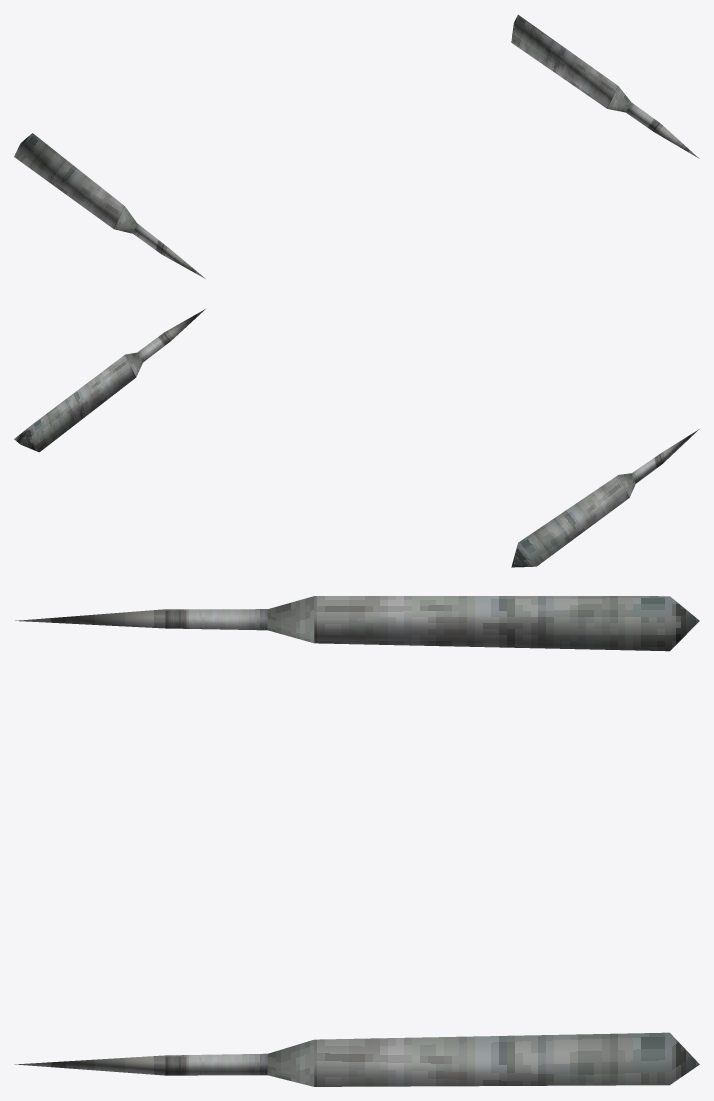
Rendered from awing_weapon_s05_l3.fbx.
The picture shows the model from 3 angles, top to bottom: view 1: azimuth 30°, elevation 25°; view 2: azimuth 150°, elevation 25°; view 3: azimuth 270°, elevation 25°; orthographic projection. The views are drawn at different scales.
Visible parts, largest first — view 1: mesh_node; view 2: mesh_node; view 3: mesh_node.
Part boxes in pixels (x1,y1,x2,y2): mesh_node: (14,14,699,278); mesh_node: (14,309,699,567); mesh_node: (14,596,699,1086).
Size of the model in its own units: 9.28 by 0.4508 by 5.72.
Materials: 1 (1 with a texture image).
